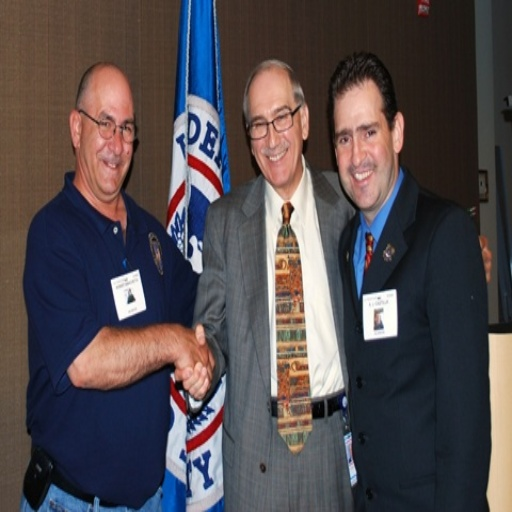hand: (172, 320, 214, 401), (475, 235, 494, 279)
